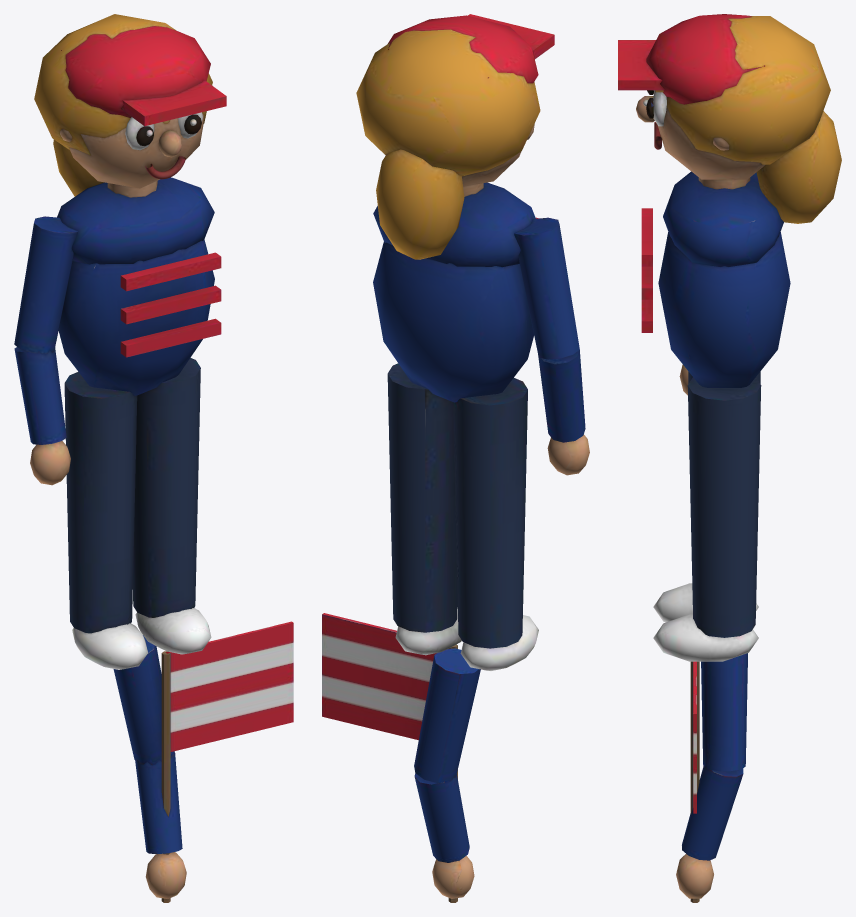
The model's file is fan.glb.
The picture shows the model from 3 angles, left to right: view 1: azimuth 30°, elevation 25°; view 2: azimuth 150°, elevation 25°; view 3: azimuth 270°, elevation 25°; orthographic projection. The views are drawn at different scales.
Parts seen in each view (by area): view 1: fan_cuerpo, fan_brazo; view 2: fan_cuerpo, fan_brazo; view 3: fan_cuerpo, fan_brazo.
Boxes of the visible parts, x1=… form: fan_cuerpo: x1=14, y1=14, x2=226, y2=669; fan_brazo: x1=113, y1=621, x2=293, y2=902; fan_cuerpo: x1=356, y1=14, x2=589, y2=670; fan_brazo: x1=322, y1=613, x2=480, y2=902; fan_cuerpo: x1=618, y1=14, x2=841, y2=661; fan_brazo: x1=676, y1=653, x2=747, y2=902.
Bounding box in the file's own units: 0.8024 × 2.54 × 0.5926.
2 materials, 2 textured.
